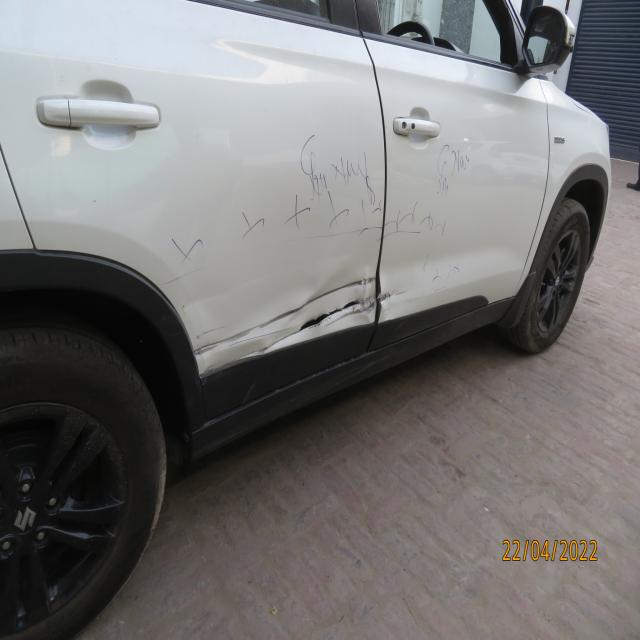damage: (198, 249, 380, 377), (377, 280, 409, 313)
